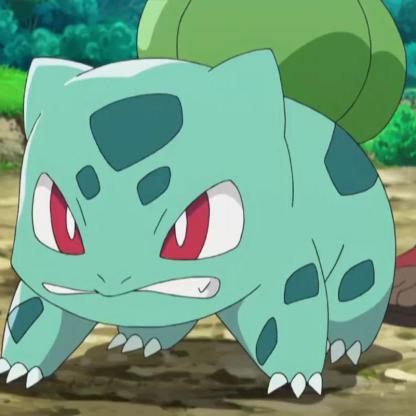Bulbasaur: (25, 16, 408, 384)
